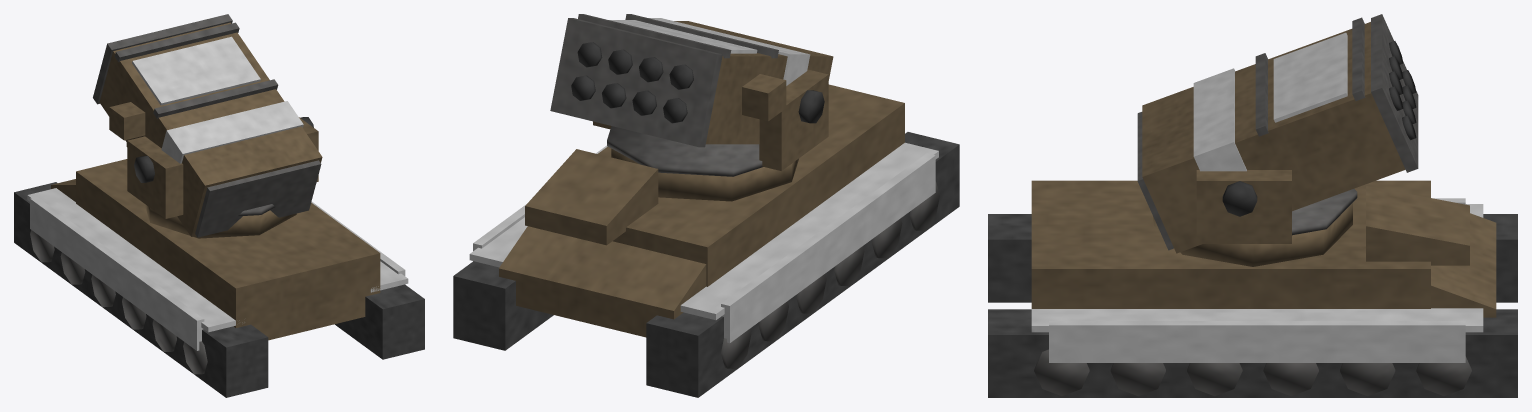
File: artillery.glb
3 renders of one model, left to right at view 1: azimuth 30°, elevation 25°; view 2: azimuth 150°, elevation 25°; view 3: azimuth 270°, elevation 25°, orthographic. The views are drawn at different scales.
Parts seen in each view (by area): view 1: hull, turret; view 2: hull, turret; view 3: hull, turret.
Boxes of the visible parts, x1=… form: hull: x1=14, y1=143, x2=424, y2=397; turret: x1=93, y1=14, x2=322, y2=238; hull: x1=453, y1=84, x2=959, y2=397; turret: x1=550, y1=14, x2=833, y2=201; hull: x1=988, y1=180, x2=1517, y2=397; turret: x1=1137, y1=14, x2=1418, y2=266.
Bounding box in the file's own units: 3.46 × 3.64 × 6.1.
4 materials, 4 textured.
